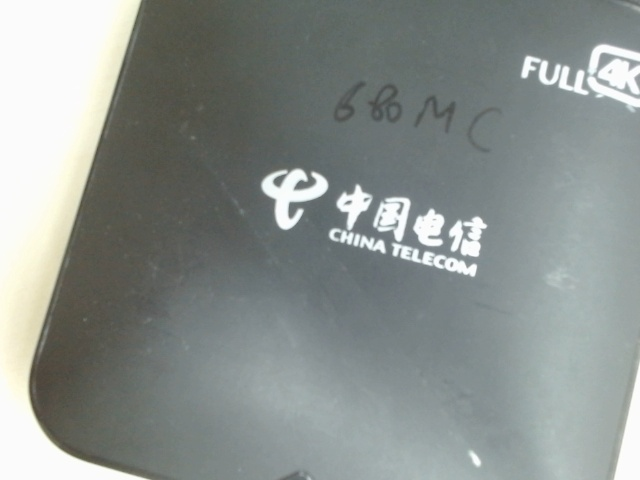AB_ChinaTelecom: (249, 156, 499, 288)
